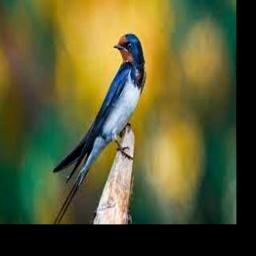Swallow: (53, 33, 145, 224)
